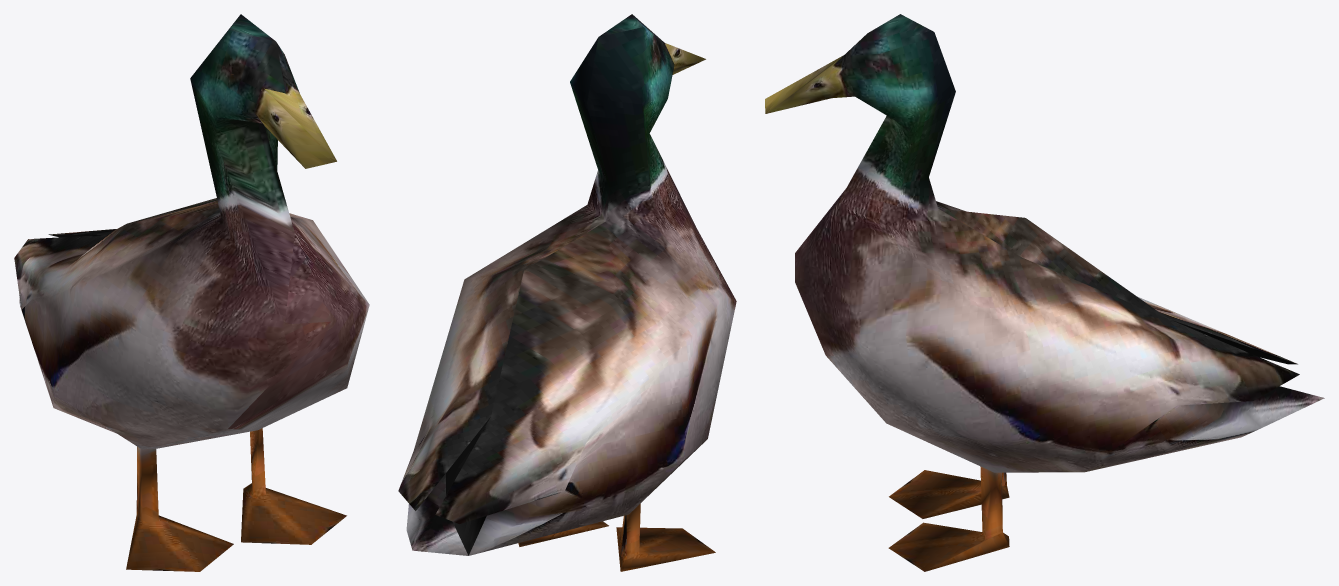
The model's file is duck.gltf.
The picture shows the model from 3 angles, left to right: view 1: azimuth 30°, elevation 25°; view 2: azimuth 150°, elevation 25°; view 3: azimuth 270°, elevation 25°; orthographic projection. The views are drawn at different scales.
Parts seen in each view (by area): view 1: 12248_Bird_v1_L2.006; view 2: 12248_Bird_v1_L2.006; view 3: 12248_Bird_v1_L2.006.
Boxes of the visible parts, x1,y1,x2,y2 form: 12248_Bird_v1_L2.006: [14, 14, 369, 571]; 12248_Bird_v1_L2.006: [398, 14, 736, 571]; 12248_Bird_v1_L2.006: [765, 14, 1324, 571].
Bounding box in the file's own units: 14.38 × 28.01 × 28.48.
Materials: 1 (1 with a texture image).
